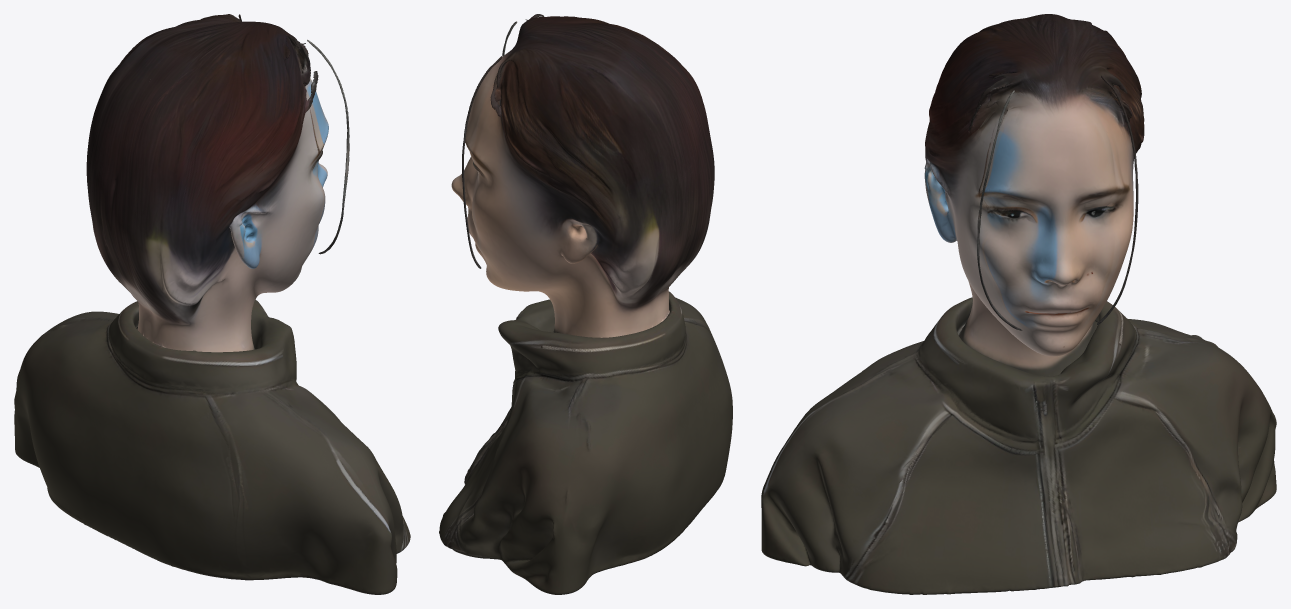
The model's file is tripo_pbr_model_297f3e74-1763-_08c723b0_opt.glb.
3 views of the same model, side by side, from view 1: azimuth 30°, elevation 25°; view 2: azimuth 150°, elevation 25°; view 3: azimuth 270°, elevation 25° (orthographic). The views are drawn at different scales.
Parts seen in each view (by area): view 1: tripo_node_297f3e74-1763-4f73-8e43-9678e0e041e5; view 2: tripo_node_297f3e74-1763-4f73-8e43-9678e0e041e5; view 3: tripo_node_297f3e74-1763-4f73-8e43-9678e0e041e5.
Boxes of the visible parts, bbox=[...] form: tripo_node_297f3e74-1763-4f73-8e43-9678e0e041e5: bbox=[14, 14, 410, 594]; tripo_node_297f3e74-1763-4f73-8e43-9678e0e041e5: bbox=[439, 14, 732, 594]; tripo_node_297f3e74-1763-4f73-8e43-9678e0e041e5: bbox=[761, 14, 1276, 594].
Bounding box in the file's own units: 0.5565 × 1 × 0.9289.
Materials: 1 (1 with a texture image).
